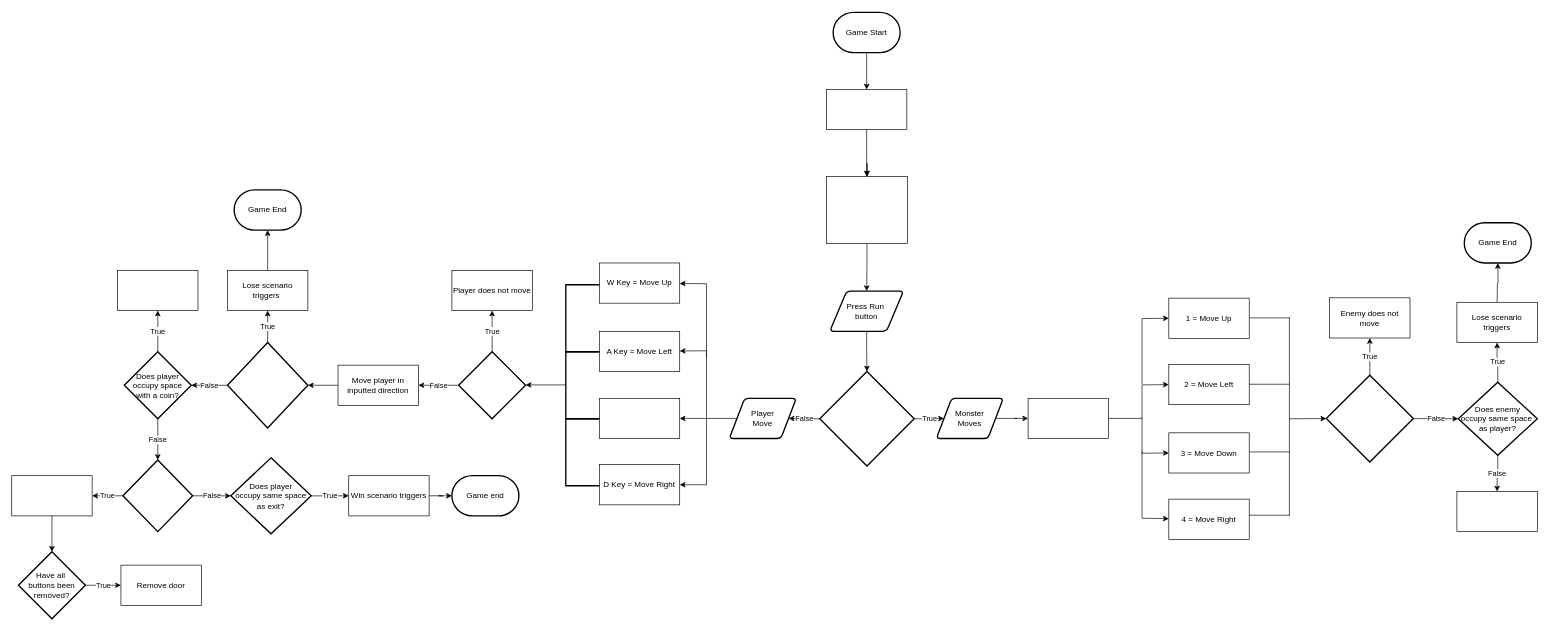
The diagram is 1550 pixels wide and 630 high, and some of its shapes have lost their labels. The centre of each missing label's shape, as x and y in pixels:
"Does player occupy a space with an enemy?" belongs at pixel 267 384.
"Does player occupy space with a button?" belongs at pixel 157 495.
"Generate random number 1-4 for each monster's movement" belongs at pixel 1068 418.
"Has Player taken a turn? (Player turn resets after Monsters move)" belongs at pixel 867 418.
"Increase player's score and remove coin" belongs at pixel 157 290.
"Initialize the actors: Walls Door Buttons Coins Player Monsters" belongs at pixel 867 210.
"Initialize World" belongs at pixel 866 109.
"Is wall/door in direction of movement?" belongs at pixel 492 385.
"Is wall/door/Monster in direction of movement?" belongs at pixel 1369 418.
"Nothing happens" belongs at pixel 1496 511.
"Remove the button" belongs at pixel 51 495.
"S Key = Move Down" belongs at pixel 639 418.
